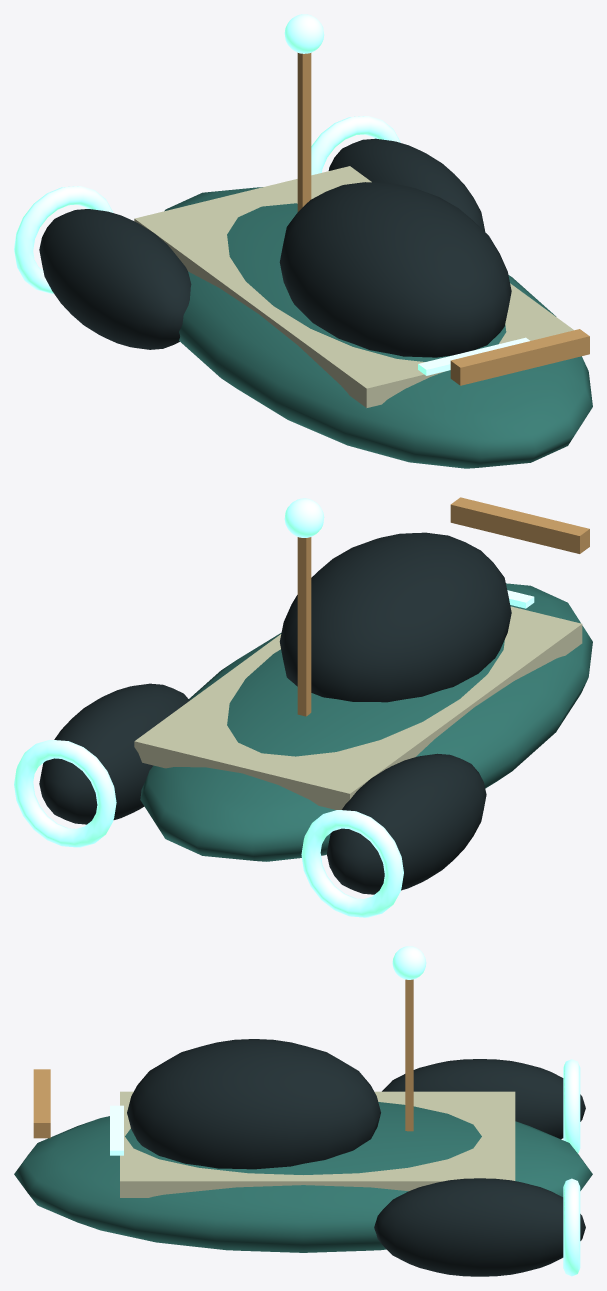
Rendered from courier-skiff.glb.
3 views of the same model, one above another, from view 1: azimuth 30°, elevation 25°; view 2: azimuth 150°, elevation 25°; view 3: azimuth 270°, elevation 25° (orthographic). The views are drawn at different scales.
Parts seen in each view (by area): view 1: Hull, Canopy, Engine_pod (×2), Deck, Courier_skiff, Bow_rail, Antenna, Signal, Headlight; view 2: Hull, Canopy, Engine_pod (×2), Deck, Courier_skiff, Bow_rail, Antenna, Signal; view 3: Hull, Canopy, Engine_pod (×2), Deck, Courier_skiff, Antenna, Bow_rail, Signal, Headlight.
Boxes of the visible parts, <box> form: Hull: <box>164,187,592,468</box>; Canopy: <box>279,182,511,357</box>; Engine_pod (×2): <box>39,138,485,349</box>; Deck: <box>134,166,573,407</box>; Courier_skiff: <box>14,116,400,293</box>; Bow_rail: <box>450,329,589,385</box>; Antenna: <box>297,53,311,211</box>; Signal: <box>284,14,324,53</box>; Headlight: <box>418,337,529,375</box>; Hull: <box>140,583,592,861</box>; Canopy: <box>279,532,511,702</box>; Engine_pod (×2): <box>39,683,486,894</box>; Deck: <box>134,606,582,809</box>; Courier_skiff: <box>14,740,403,917</box>; Bow_rail: <box>450,497,589,553</box>; Antenna: <box>297,537,311,716</box>; Signal: <box>284,498,324,537</box>; Hull: <box>14,1102,592,1252</box>; Canopy: <box>127,1039,380,1169</box>; Engine_pod (×2): <box>374,1059,585,1276</box>; Deck: <box>120,1091,515,1197</box>; Courier_skiff: <box>563,1059,580,1276</box>; Antenna: <box>405,979,413,1131</box>; Bow_rail: <box>33,1069,50,1138</box>; Signal: <box>392,946,426,979</box>; Headlight: <box>110,1105,123,1155</box>.
Size of the model in its own units: 2.7 by 2.15 by 4.1.
